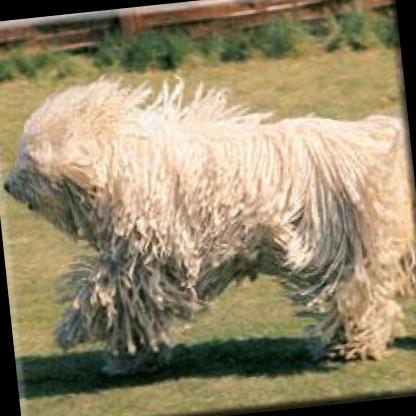komondor: (0, 32, 416, 402)
